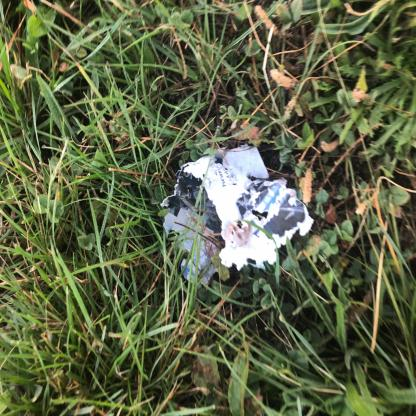trash: (82, 206, 214, 416)
